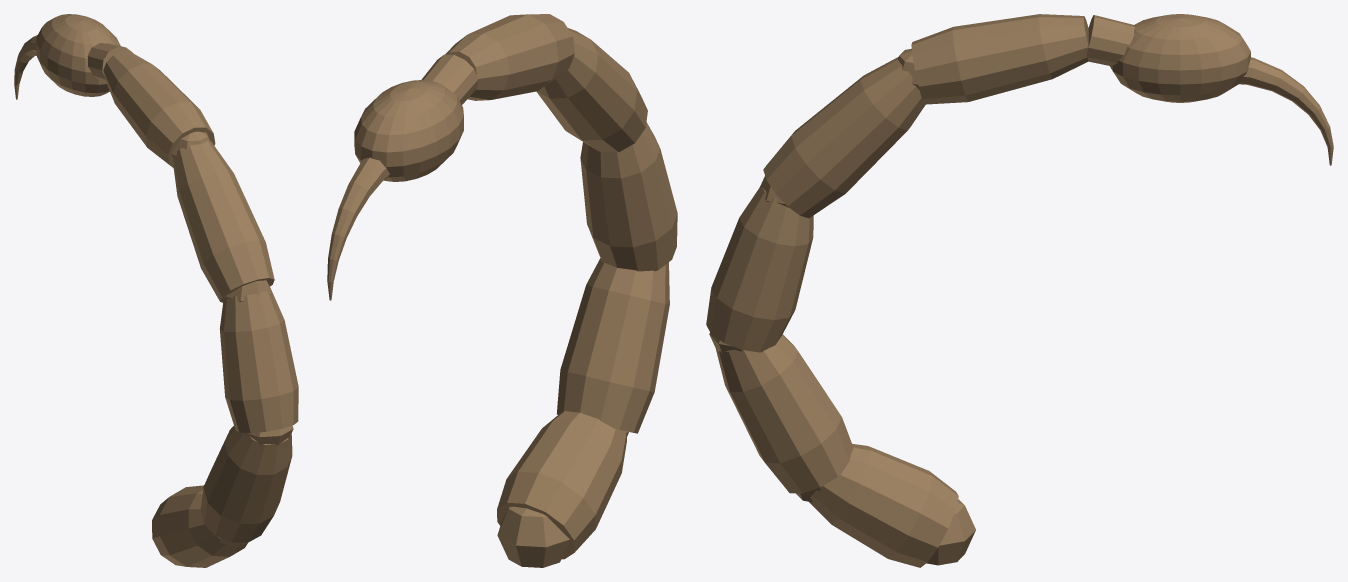
File: scorpion_tail_original_01.glb
3 views of the same model, side by side, from view 1: azimuth 30°, elevation 25°; view 2: azimuth 150°, elevation 25°; view 3: azimuth 270°, elevation 25° (orthographic). The views are drawn at different scales.
Visible parts, largest first — view 1: S0_TailSegment4, S0_TailSegment3, S0_TailSegment2, S0_TailSegment5, S0_Telson, S0_TailSegment1, S0_TelsonNeck, S0_Sting, S0_TailMembrane3, S0_TailMembrane4, S0_TailMembrane5; view 2: S0_TailSegment2, S0_TailSegment1, S0_TailSegment3, S0_Telson, S0_TailSegment4, S0_TailSegment5, S0_TailMembrane1, S0_Sting, S0_TelsonNeck; view 3: S0_TailSegment4, S0_TailSegment2, S0_TailSegment5, S0_TailSegment3, S0_TailSegment1, S0_Telson, S0_Sting, S0_TelsonNeck, S0_TailMembrane1.
Part boxes in pixels (box(x1,y1,x2,y2)): S0_TailSegment4: box(173, 141, 274, 302); S0_TailSegment3: box(220, 287, 298, 433); S0_TailSegment2: box(200, 426, 292, 542); S0_TailSegment5: box(103, 51, 215, 167); S0_Telson: box(36, 14, 120, 96); S0_TailSegment1: box(152, 485, 248, 567); S0_TelsonNeck: box(87, 43, 132, 82); S0_Sting: box(14, 35, 37, 99); S0_TailMembrane3: box(243, 425, 293, 445); S0_TailMembrane4: box(225, 280, 271, 301); S0_TailMembrane5: box(171, 131, 210, 158); S0_TailSegment2: box(556, 258, 669, 433); S0_TailSegment1: box(497, 411, 626, 559); S0_TailSegment3: box(580, 122, 677, 271); S0_Telson: box(354, 80, 463, 181); S0_TailSegment4: box(536, 28, 647, 152); S0_TailSegment5: box(445, 14, 574, 100); S0_TailMembrane1: box(497, 506, 569, 567); S0_Sting: box(327, 157, 389, 300); S0_TelsonNeck: box(421, 54, 478, 104); S0_TailSegment4: box(763, 57, 925, 218); S0_TailSegment2: box(715, 334, 853, 493); S0_TailSegment5: box(911, 14, 1088, 104); S0_TailSegment3: box(706, 187, 813, 352); S0_TailSegment1: box(809, 443, 958, 567); S0_Telson: box(1110, 14, 1250, 102); S0_Sting: box(1239, 57, 1333, 165); S0_TelsonNeck: box(1086, 15, 1135, 66); S0_TailMembrane1: box(926, 499, 975, 565).
Size of the model in its own units: 0.15 by 0.9229 by 0.9595.
